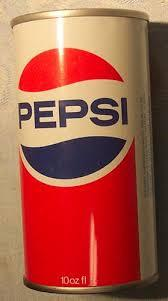Aluminum can: (3, 2, 168, 301)
